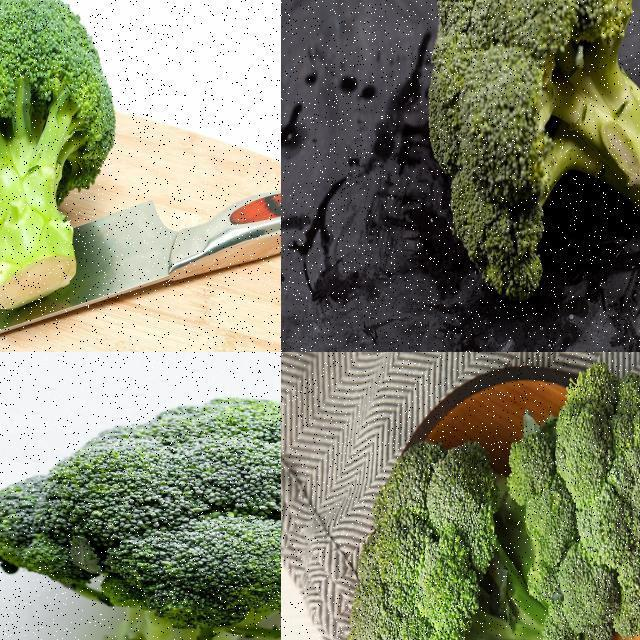broccoli: (0, 396, 280, 639), (423, 0, 639, 304), (349, 436, 599, 639), (0, 0, 117, 319), (512, 361, 639, 639)
